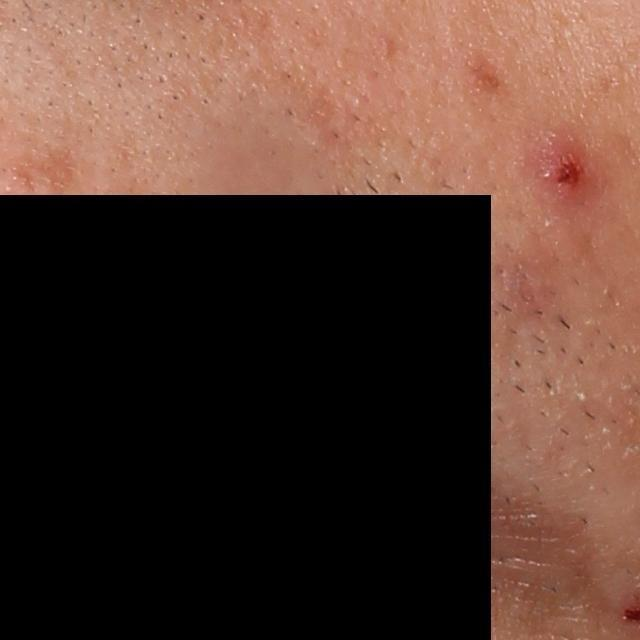papule: (534, 134, 602, 231)
